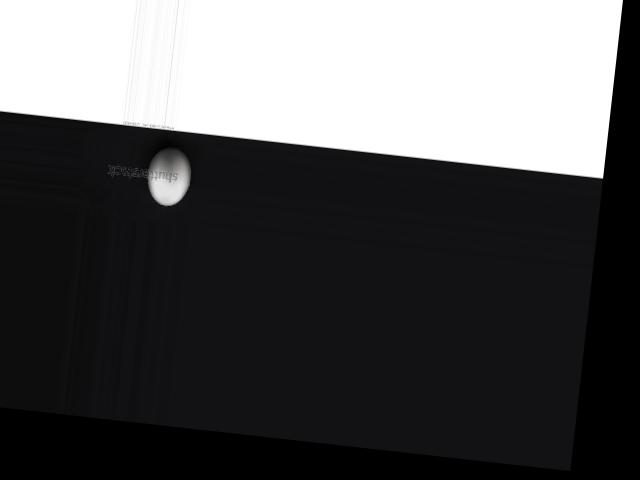egg: (145, 145, 193, 208)
